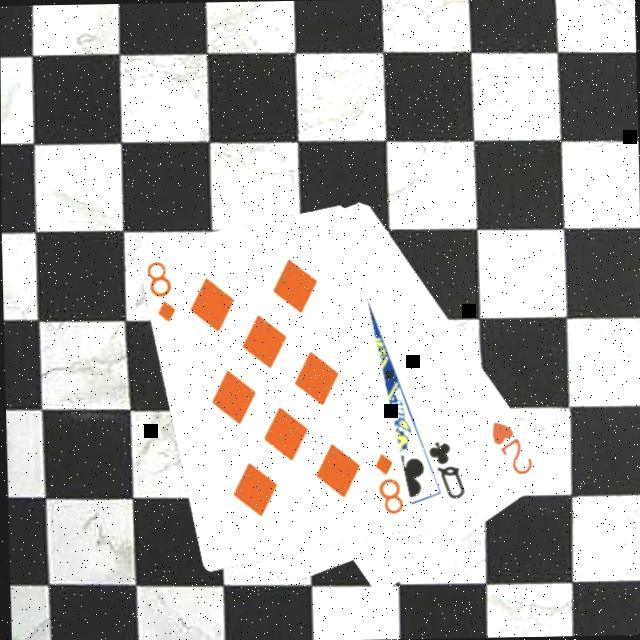2H: (487, 416, 536, 478)
8D: (371, 448, 406, 518), (144, 256, 179, 326)
QC: (425, 436, 468, 502)
